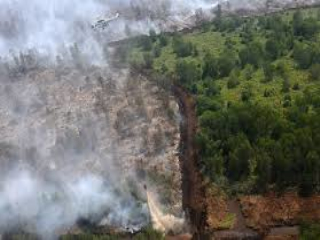smoke: (3, 161, 157, 233), (5, 4, 133, 62), (171, 2, 225, 23)
